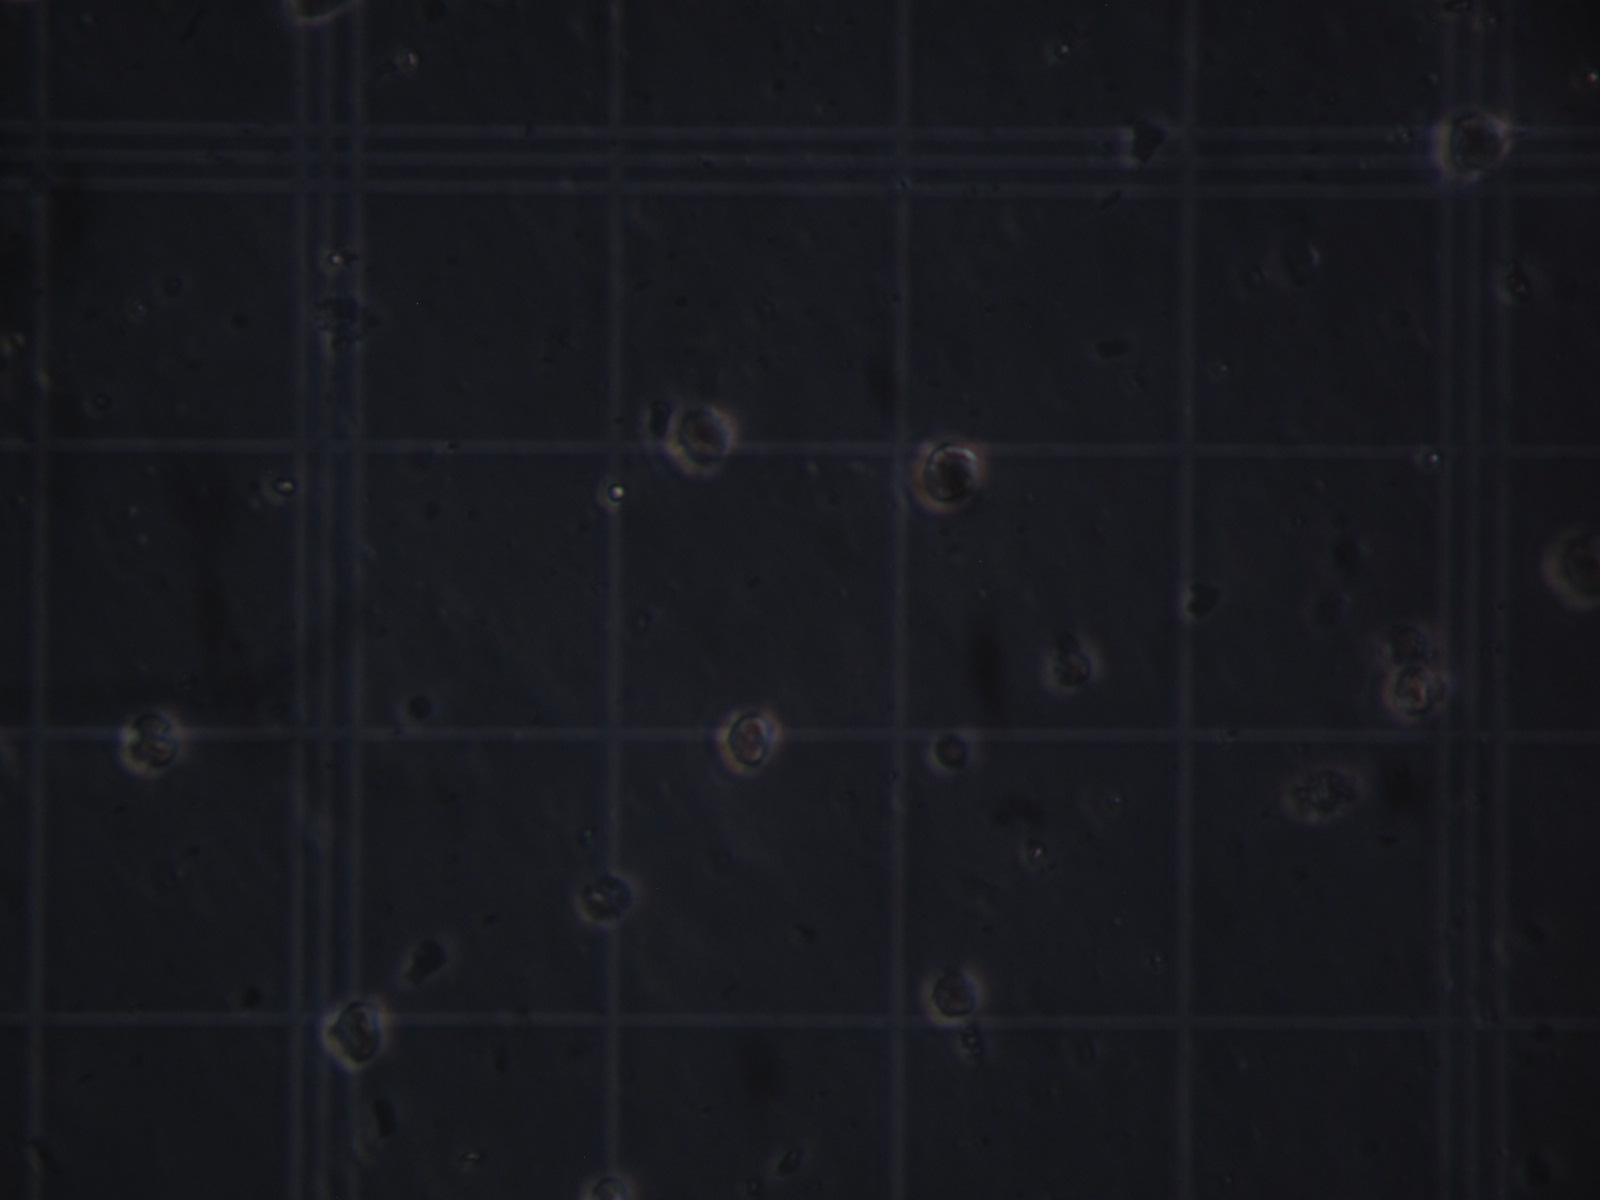hemo: (907, 434, 986, 519), (665, 397, 740, 475), (1440, 105, 1509, 185), (118, 700, 186, 776), (1285, 765, 1371, 821), (326, 996, 389, 1070), (1386, 659, 1454, 724), (922, 959, 984, 1026), (721, 708, 781, 771), (1047, 626, 1101, 695), (580, 871, 637, 929), (927, 726, 979, 779)
